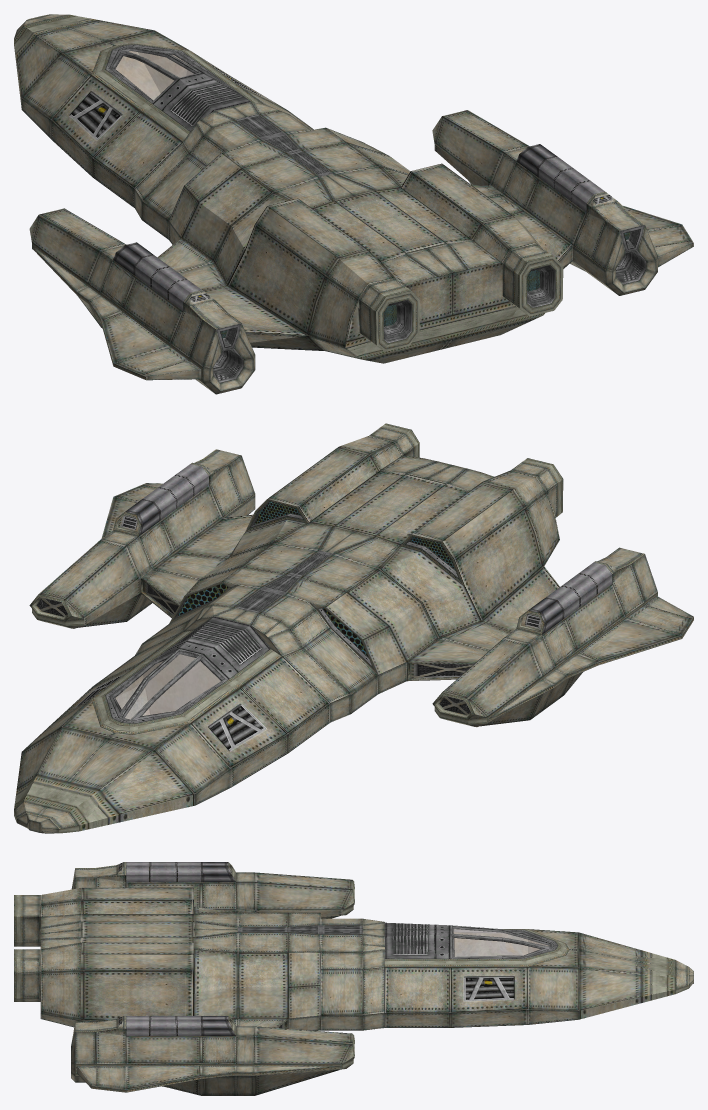
File: fighter LF.obj
The picture shows the model from 3 angles, top to bottom: view 1: azimuth 30°, elevation 25°; view 2: azimuth 150°, elevation 25°; view 3: azimuth 270°, elevation 25°; orthographic projection. The views are drawn at different scales.
Visible parts, largest first — view 1: Cube.008_Cube.014; view 2: Cube.008_Cube.014; view 3: Cube.008_Cube.014.
Boxes of the visible parts, box(x1,y1,x2,y2) form: Cube.008_Cube.014: box(14, 14, 693, 394); Cube.008_Cube.014: box(14, 423, 693, 833); Cube.008_Cube.014: box(14, 862, 693, 1095).
Size of the model in its own units: 13.54 by 2.7 by 17.92.
Materials: 5 (3 with a texture image).
